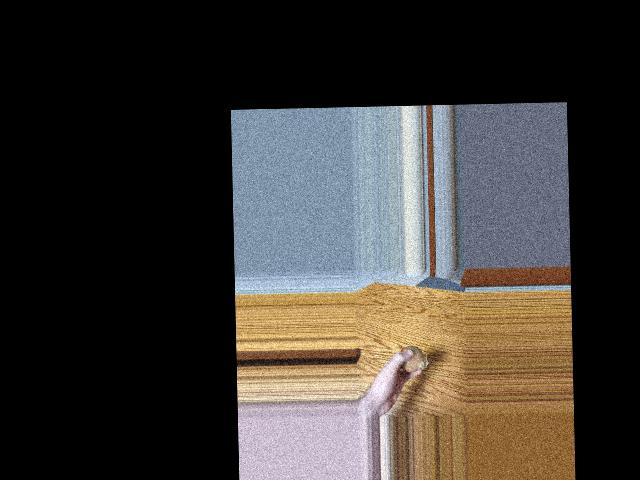onion: (400, 347, 421, 368)
